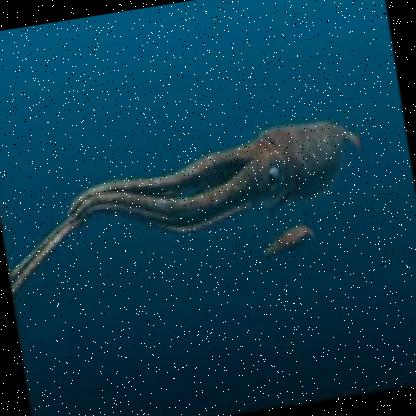colossal_squid: (0, 85, 386, 346)
